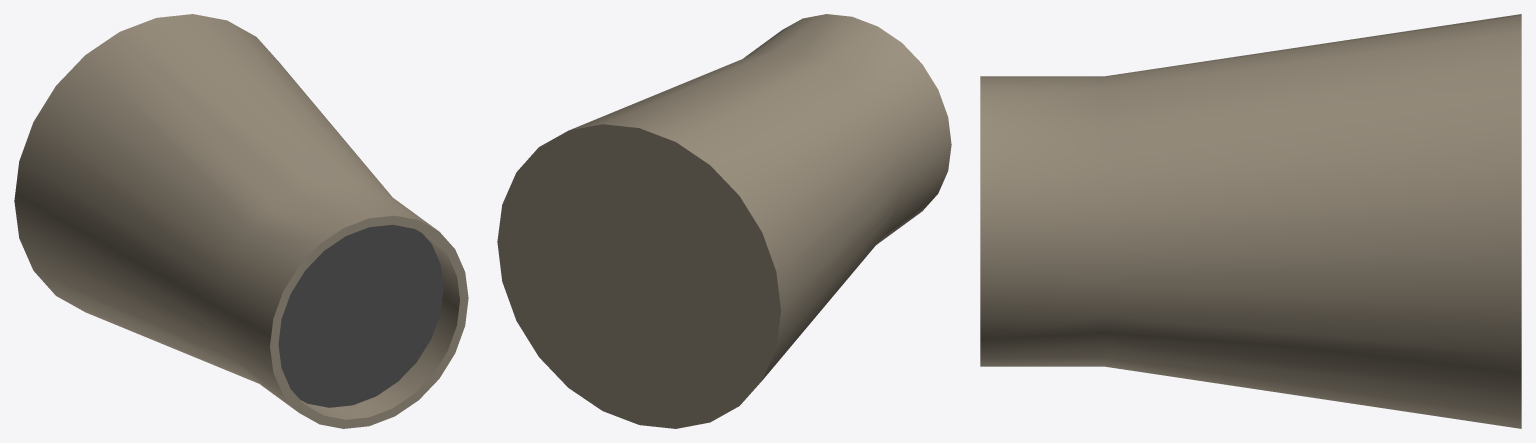
Rendered from cooler_tower.dae.
The picture shows the model from 3 angles, left to right: view 1: azimuth 30°, elevation 25°; view 2: azimuth 150°, elevation 25°; view 3: azimuth 270°, elevation 25°; orthographic projection. The views are drawn at different scales.
Visible parts, largest first — view 1: coords_ME_ID3_MA___auto_, coords_ME_ID17_MA___auto_1, coords_ME_ID11_MA___auto_; view 2: coords_ME_ID3_MA___auto_; view 3: coords_ME_ID3_MA___auto_.
Boxes of the visible parts, box(x1,y1,x2,y2) form: coords_ME_ID3_MA___auto_: box(14, 14, 468, 428); coords_ME_ID17_MA___auto_1: box(278, 224, 443, 407); coords_ME_ID11_MA___auto_: box(301, 233, 459, 419); coords_ME_ID3_MA___auto_: box(497, 14, 951, 428); coords_ME_ID3_MA___auto_: box(980, 14, 1521, 428).
Size of the model in its own units: 118 by 118 by 154.
